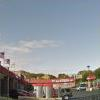Tree: (75, 65, 100, 79)
